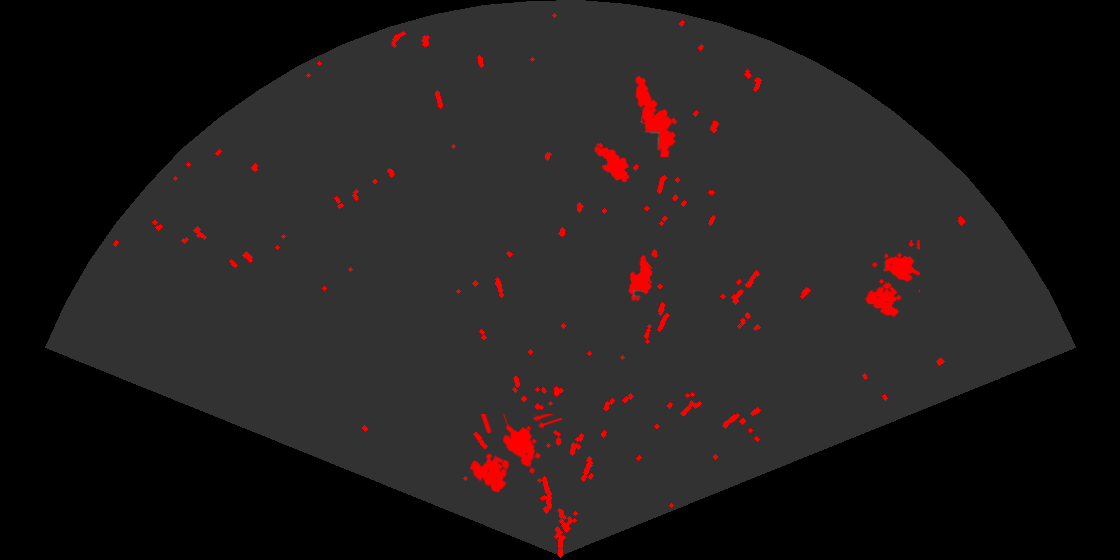AUV: (593, 145, 631, 184), (627, 253, 654, 303)
cage: (468, 414, 562, 494), (864, 240, 920, 319)
frogman: (633, 74, 679, 157)
